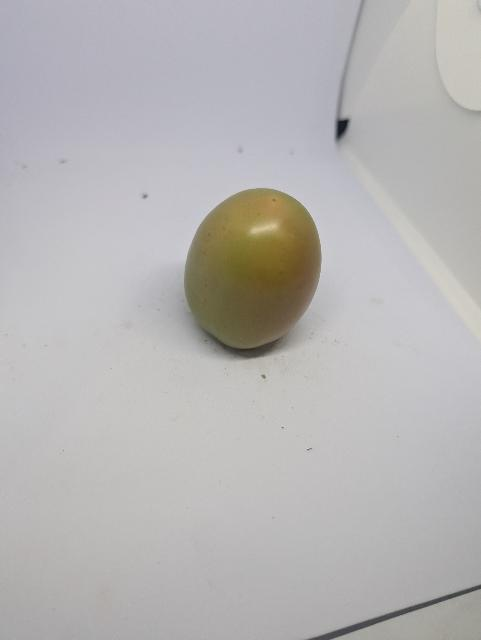breaker: (181, 184, 330, 352)
